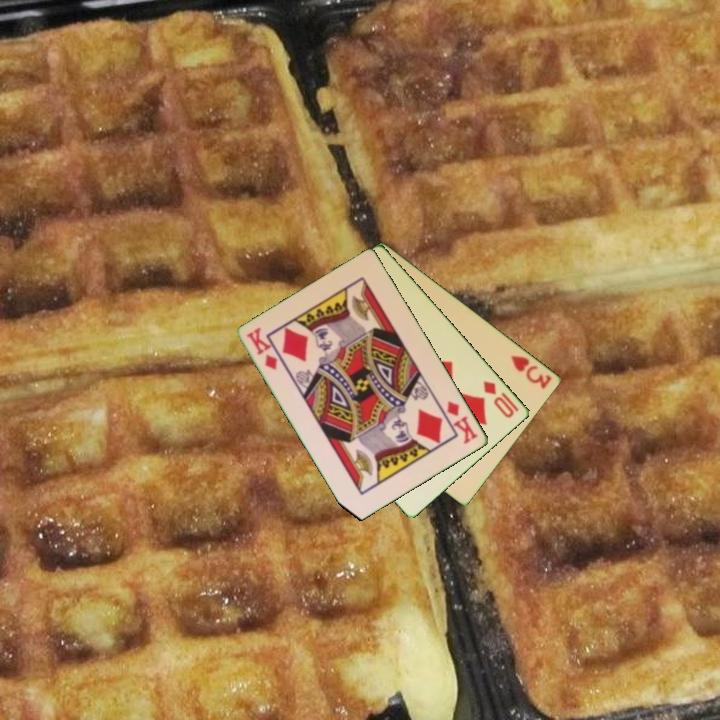10d: (480, 377, 522, 421)
3h: (508, 352, 555, 392)
Kd: (243, 324, 281, 373), (444, 397, 481, 447)
